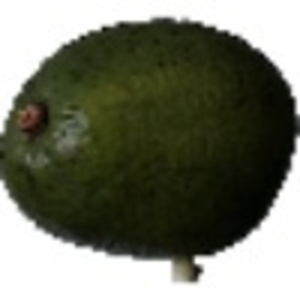abacate: (1, 14, 298, 258)
